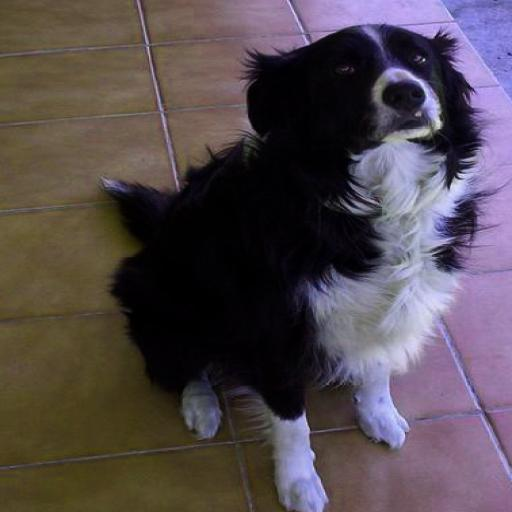dog_face: (241, 18, 469, 155)
